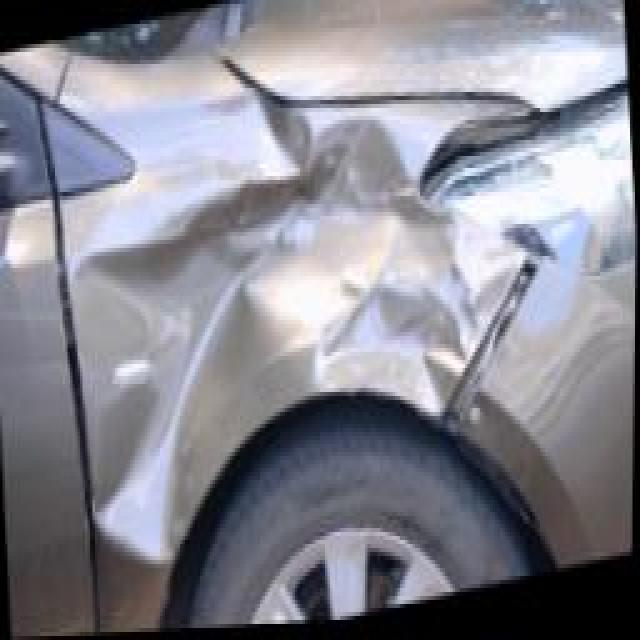Fender: (72, 92, 474, 483)
